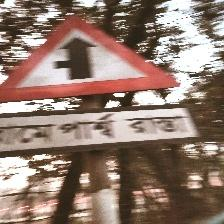Side-road-left: (0, 16, 195, 155)
